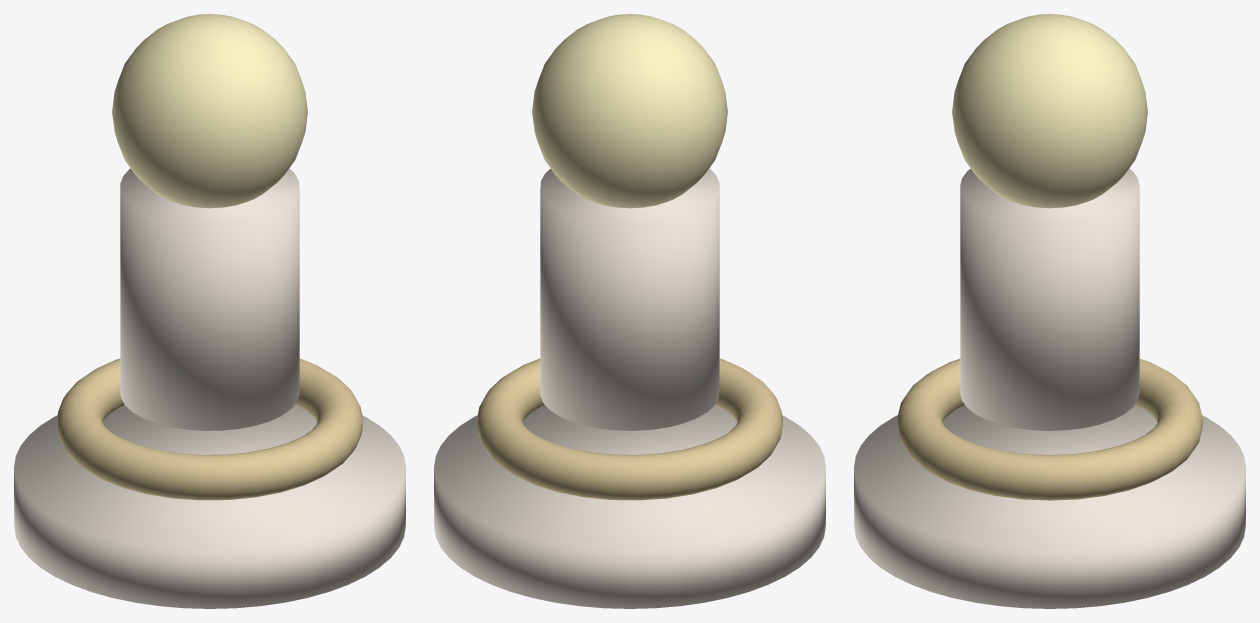
File: pawn.glb
3 views of the same model, side by side, from view 1: azimuth 30°, elevation 25°; view 2: azimuth 150°, elevation 25°; view 3: azimuth 270°, elevation 25° (orthographic).
Visible parts, largest first — view 1: base, head, collar; view 2: base, head, collar; view 3: base, head, collar.
Part boxes in pixels (x1,y1,x2,y2): base: [14, 168, 405, 608]; head: [112, 14, 307, 208]; collar: [57, 358, 362, 500]; base: [434, 168, 825, 608]; head: [532, 14, 727, 208]; collar: [477, 358, 782, 500]; base: [854, 168, 1245, 608]; head: [952, 14, 1147, 208]; collar: [896, 358, 1203, 500].
Size of the model in its own units: 0.48 by 0.68 by 0.48.
